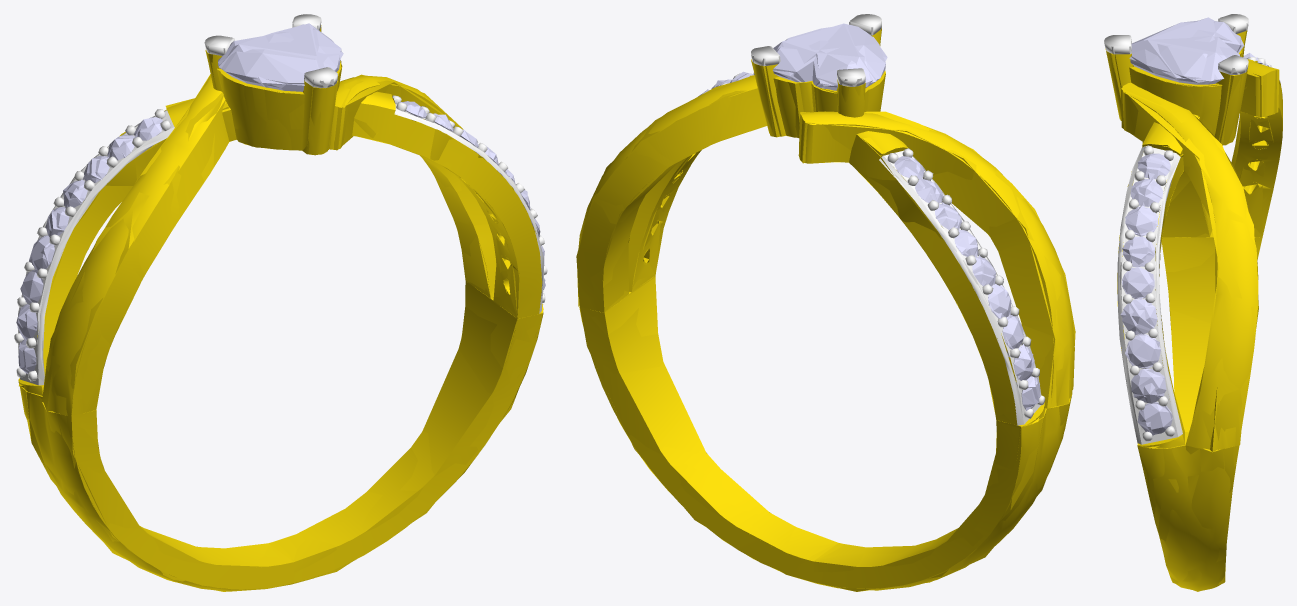
Rendered from DLR-D000679374.glb.
The picture shows the model from 3 angles, left to right: view 1: azimuth 30°, elevation 25°; view 2: azimuth 150°, elevation 25°; view 3: azimuth 270°, elevation 25°; orthographic projection. The views are drawn at different scales.
Parts seen in each view (by area): view 1: highPolyMesh, lowPolyMesh; view 2: highPolyMesh, lowPolyMesh; view 3: highPolyMesh, lowPolyMesh.
Part boxes in pixels (x1=…): highPolyMesh: x1=14, y1=14, x2=547, y2=591; lowPolyMesh: x1=14, y1=14, x2=547, y2=591; highPolyMesh: x1=577, y1=14, x2=1074, y2=590; lowPolyMesh: x1=576, y1=14, x2=1075, y2=591; highPolyMesh: x1=1104, y1=14, x2=1282, y2=591; lowPolyMesh: x1=1104, y1=14, x2=1282, y2=591.
Size of the model in its own units: 0.0194 by 0.0209 by 0.0064.
